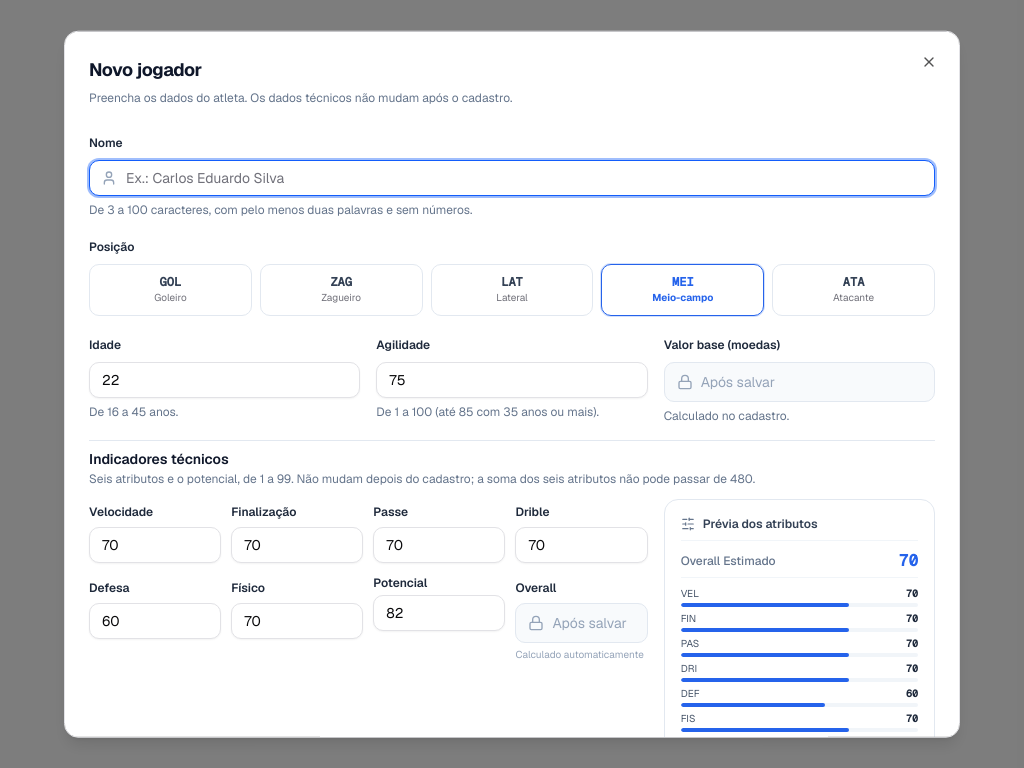
Test: PlayerCreateDialog Component (Figma node 52-128117) › displays warning and disables submit when attribute sum exceeds 480
Step 1. Replace the text in the number field labelled "Velocidade" with "95" → (155, 544), box [89,526,221,562]
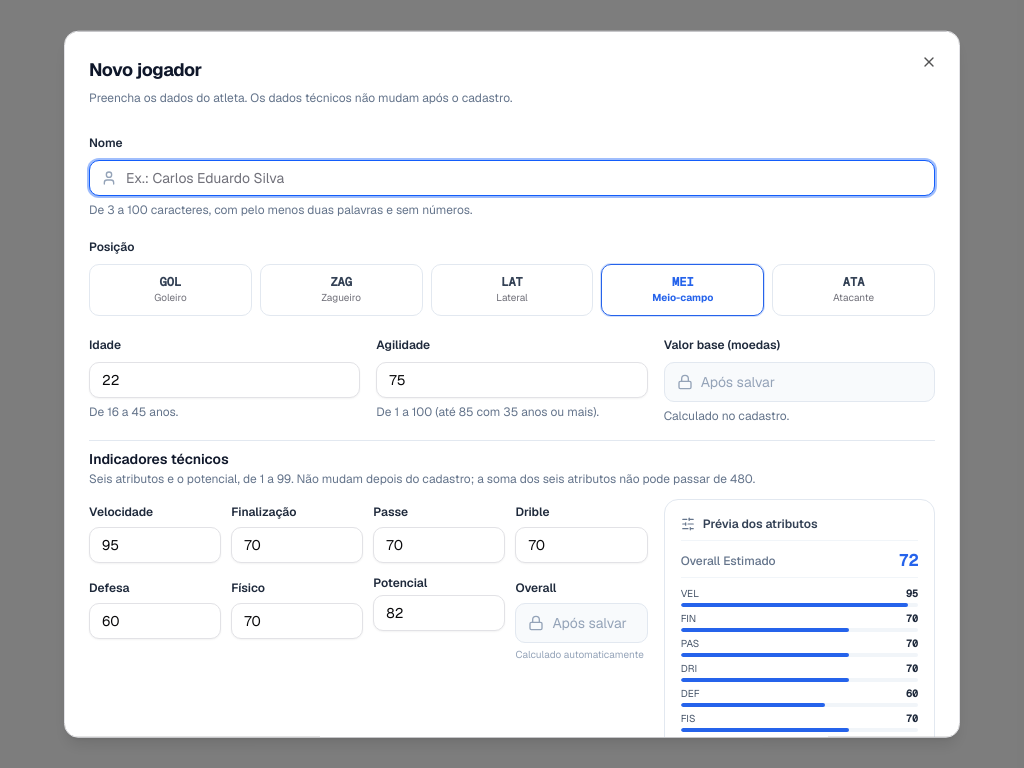
Step 2. Replace the text in the number field labelled "Finalização" with "95" → (297, 544), box [231,526,363,562]
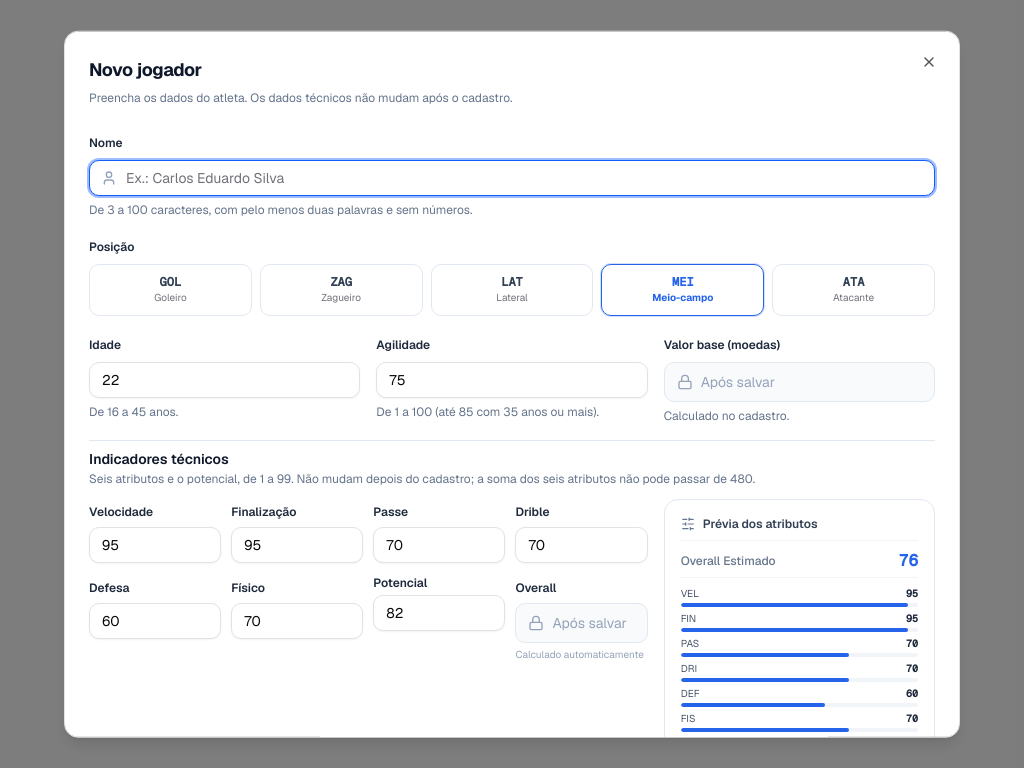
Step 3. Replace the text in the number field labelled "Passe" with "95" → (439, 544), box [373,526,506,562]
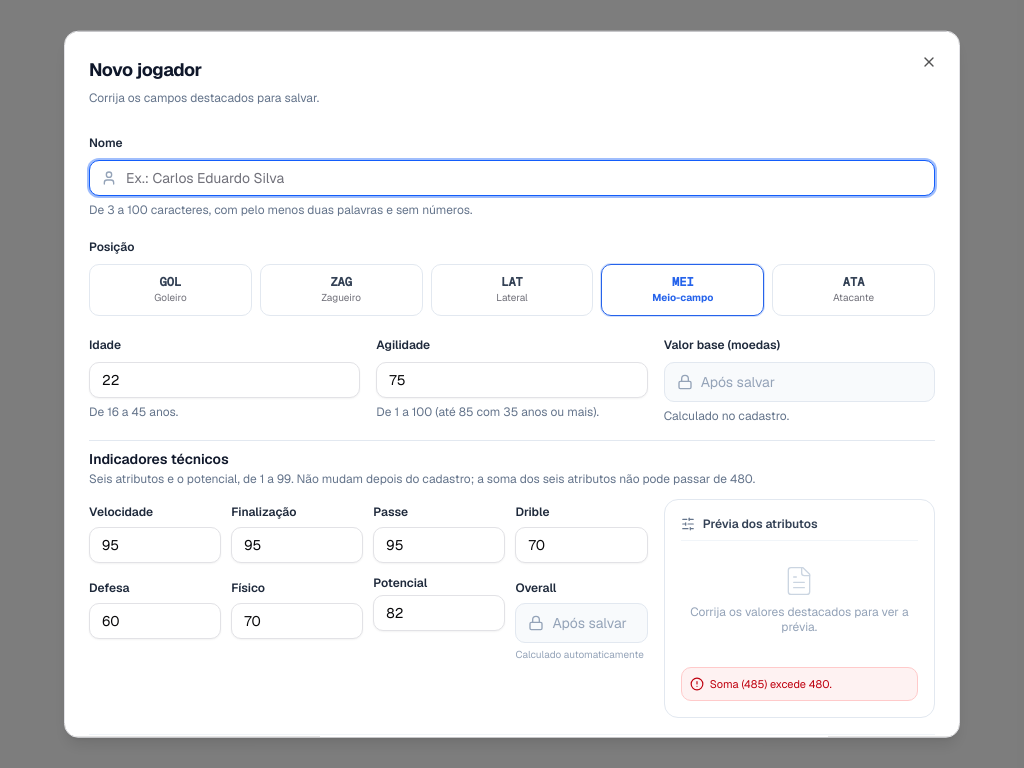
Step 4. Replace the text in the number field labelled "Drible" with "95" → (582, 544), box [516,526,648,562]
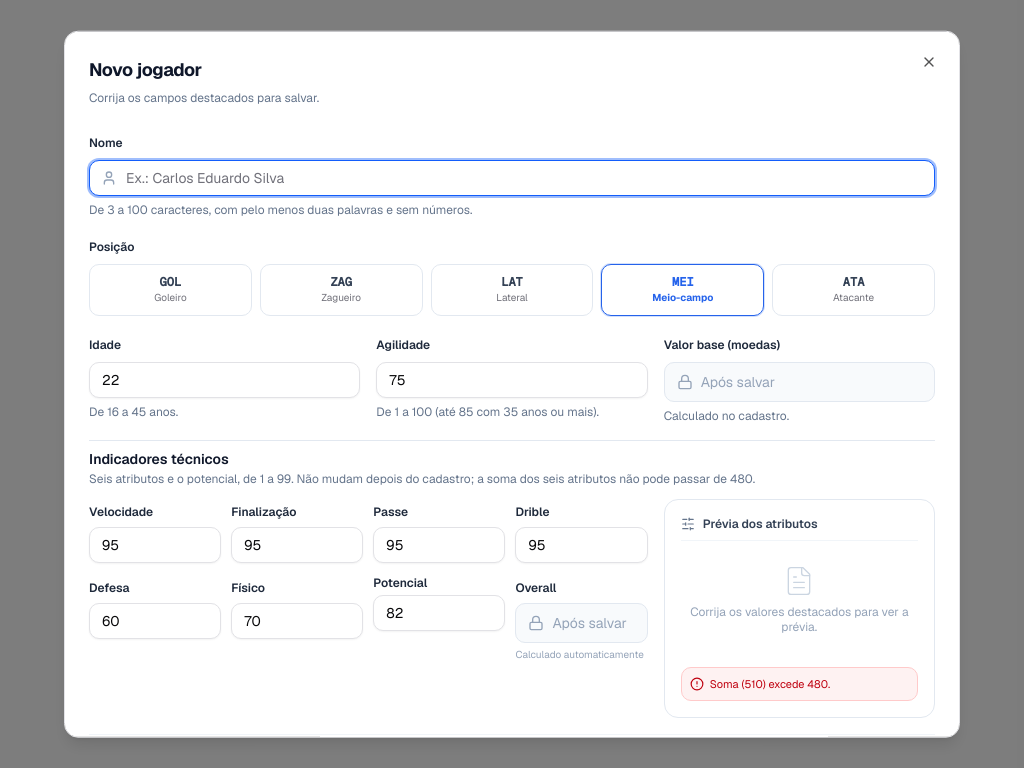
Step 5. Replace the text in the number field labelled "Defesa" with "95" → (155, 620), box [89,602,221,638]
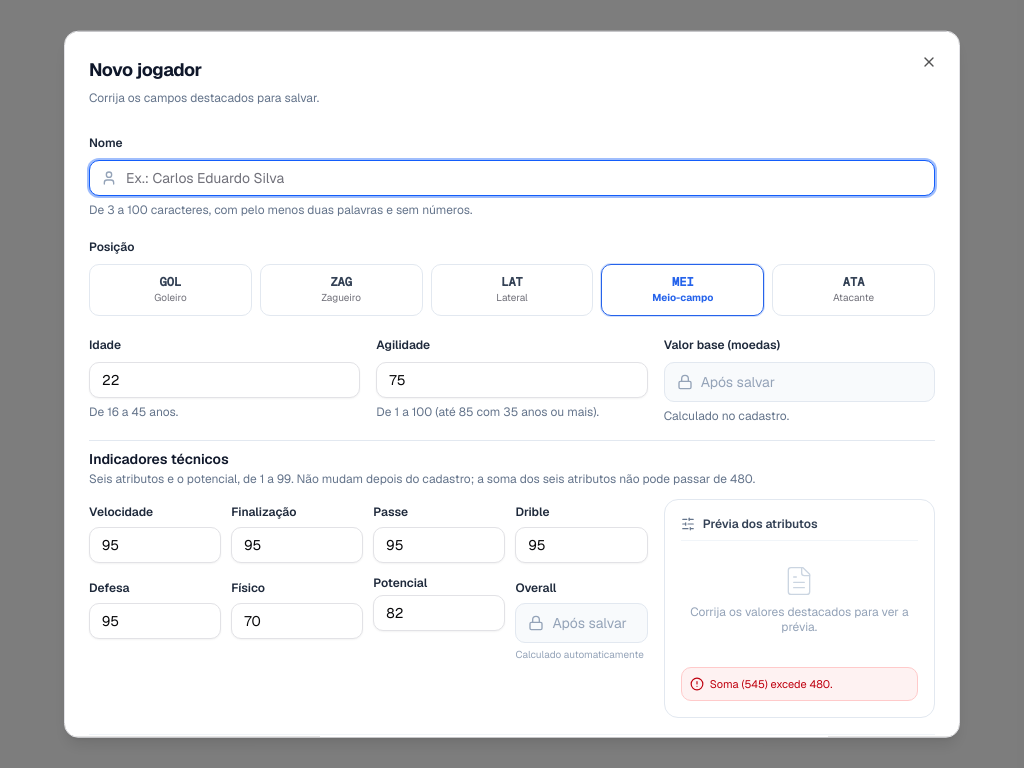
Step 6. Replace the text in the number field labelled "Físico" with "95" → (297, 620), box [231,602,363,638]
(page scrolled)
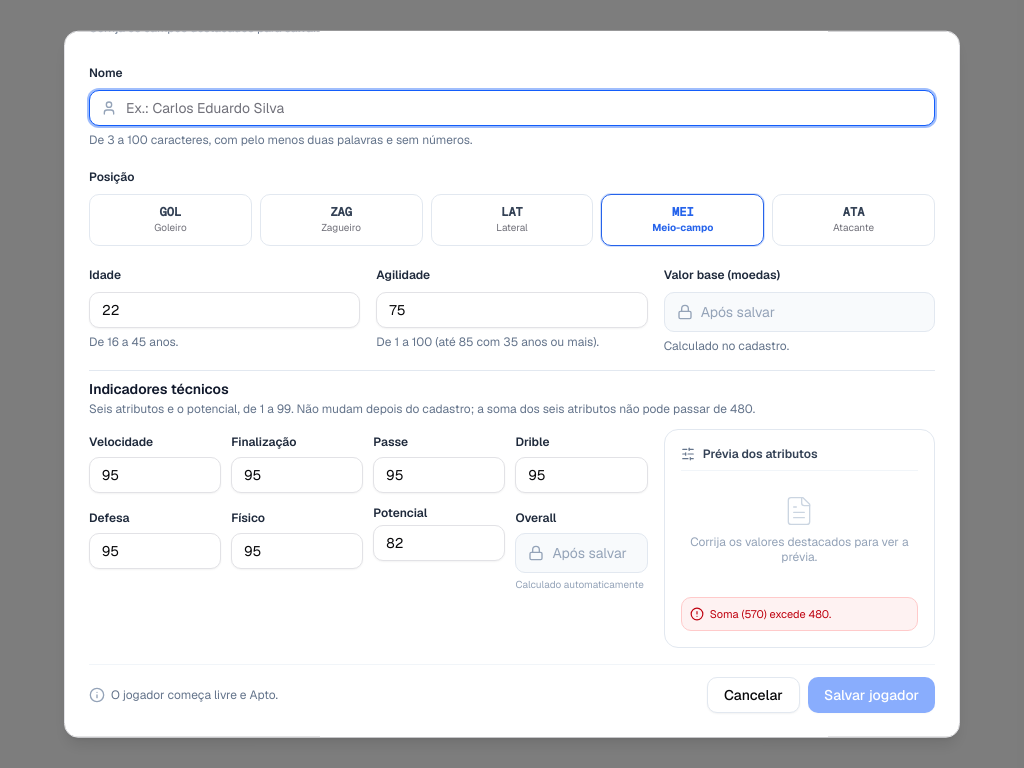
Result: the text "Soma (570) excede 480." is shown at [710,605,831,622]
Result: the button "Salvar jogador" is disabled at [808,677,935,713]
